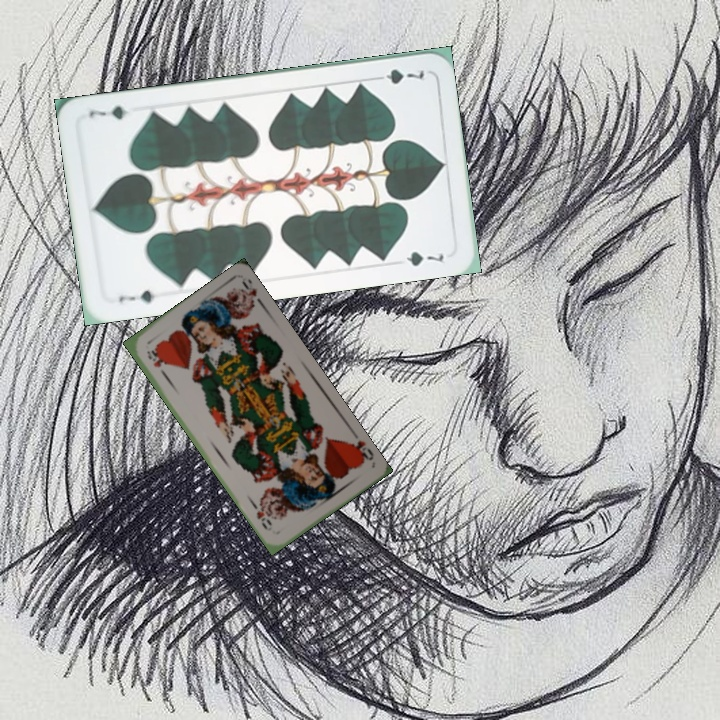G7: (369, 64, 427, 87), (114, 286, 158, 306)
HO: (343, 436, 376, 466), (142, 346, 170, 380)
